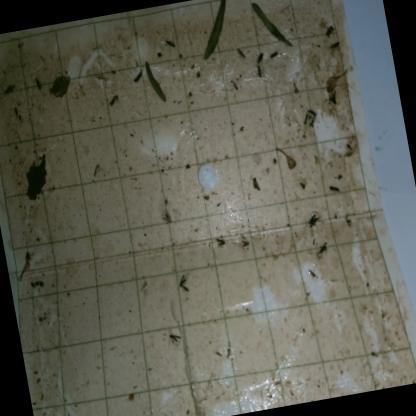prays_oleae: (154, 202, 176, 239), (101, 86, 128, 113), (172, 265, 190, 295), (165, 326, 184, 354), (314, 236, 332, 264), (326, 29, 344, 56), (238, 226, 254, 255), (213, 230, 229, 257), (321, 22, 339, 37), (302, 212, 317, 228)
